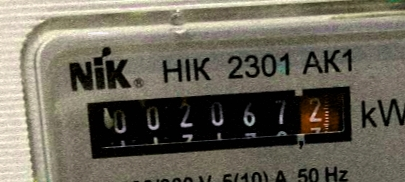0: (108, 105, 128, 135), (204, 96, 224, 125), (141, 100, 160, 130)
2: (303, 92, 323, 122), (174, 98, 193, 128)
6: (237, 97, 257, 127)
7: (270, 95, 288, 126)
screen: (70, 69, 367, 171)
